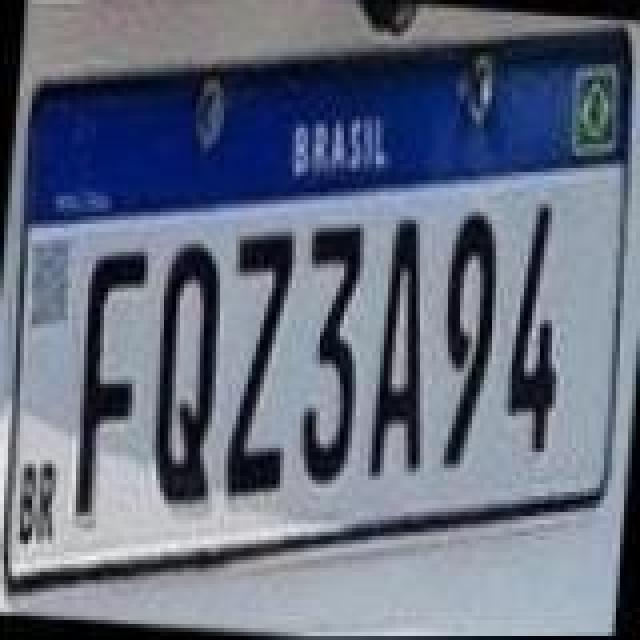3: (286, 218, 370, 490)
4: (500, 200, 572, 456)
9: (430, 212, 506, 476)
A: (370, 216, 446, 488)
F: (68, 250, 152, 526)
Q: (144, 236, 232, 508)
Z: (216, 224, 304, 504)
